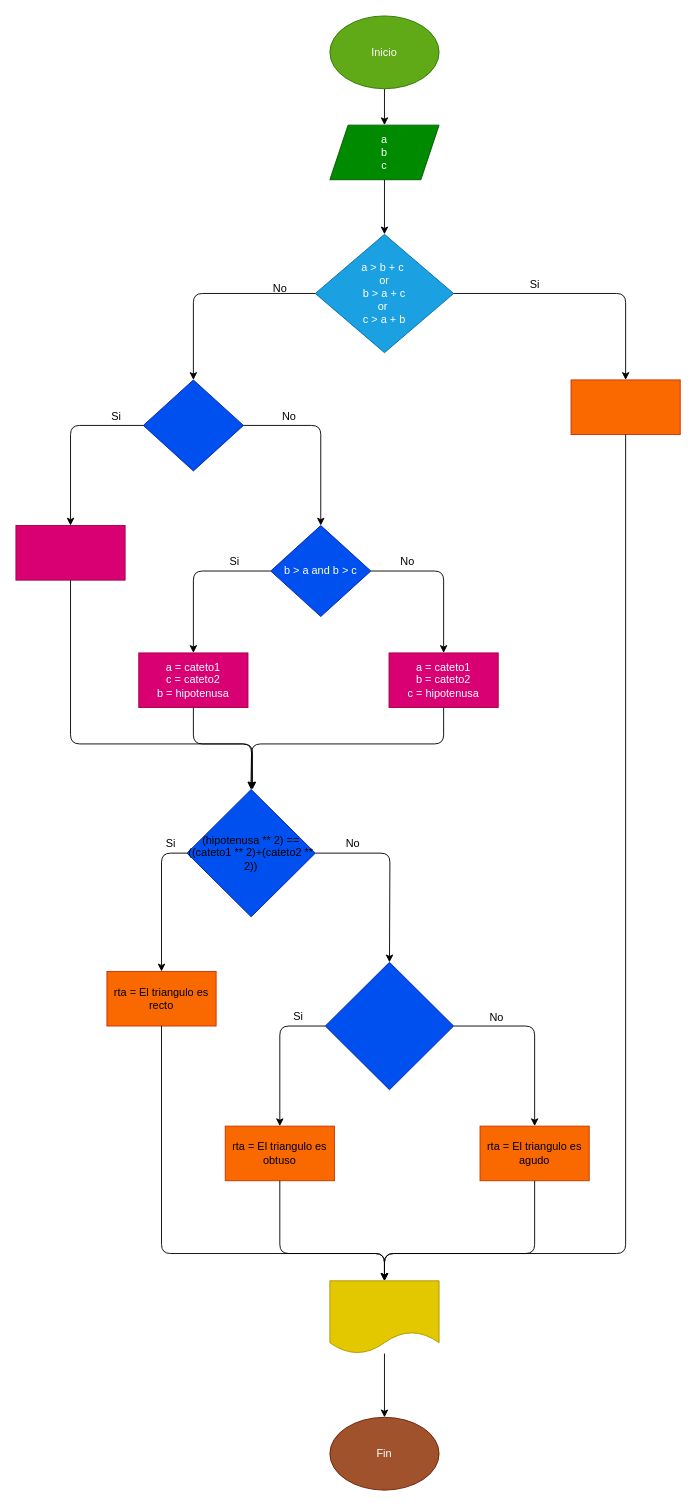
The diagram is 696 pixels wide and 1506 high, and some of its shapes have lost their labels. Each missing label, with the box of its shape:
(hipotenusa ** 2) > ((cateto1 ** 2)+(cateto2 ** 2)): (324, 961, 454, 1090)
a > b and a > c: (142, 379, 243, 471)
b = cateto1 c = cateto2 a = hipotenusa: (15, 525, 125, 580)
rta: (329, 1280, 439, 1354)
rta = Hay un error con el triangulo.: (570, 379, 680, 435)
